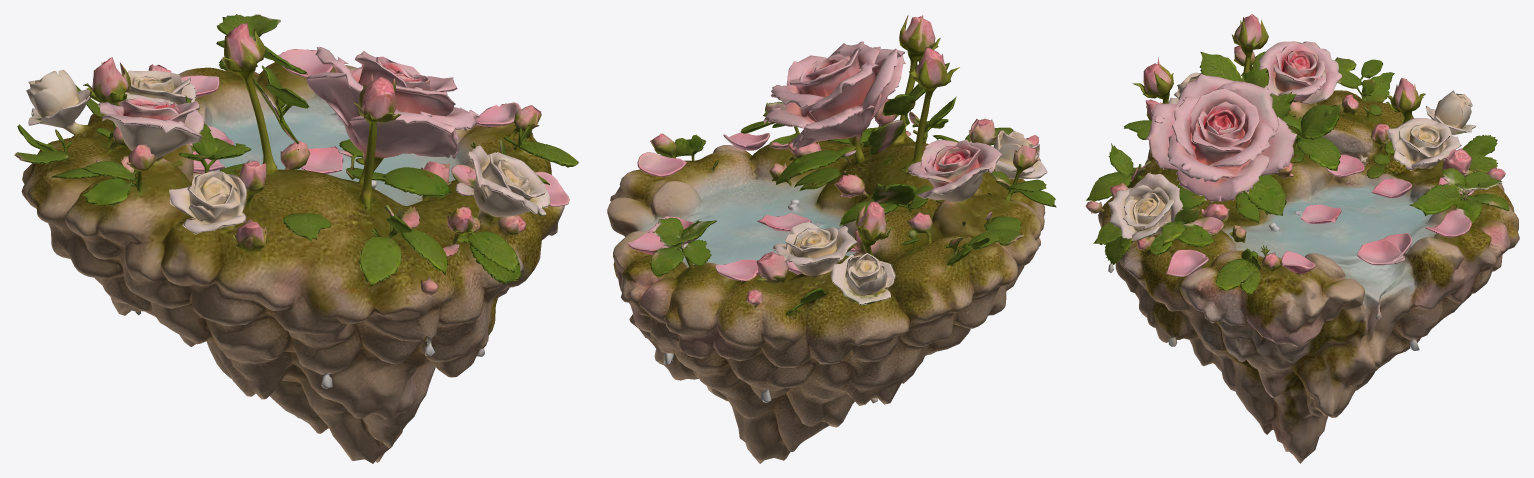
Rendered from isl-rosewater.glb.
The picture shows the model from 3 angles, left to right: view 1: azimuth 30°, elevation 25°; view 2: azimuth 150°, elevation 25°; view 3: azimuth 270°, elevation 25°; orthographic projection. The views are drawn at different scales.
Visible parts, largest first — view 1: tripo_node_b818aa1f-4a2b-4f30-8ef3-3dc51e084faa; view 2: tripo_node_b818aa1f-4a2b-4f30-8ef3-3dc51e084faa; view 3: tripo_node_b818aa1f-4a2b-4f30-8ef3-3dc51e084faa.
Boxes of the visible parts, box(x1,y1,x2,y2) form: tripo_node_b818aa1f-4a2b-4f30-8ef3-3dc51e084faa: box(14, 14, 578, 463); tripo_node_b818aa1f-4a2b-4f30-8ef3-3dc51e084faa: box(607, 15, 1056, 463); tripo_node_b818aa1f-4a2b-4f30-8ef3-3dc51e084faa: box(1085, 14, 1519, 463).
Bounding box in the file's own units: 0.98 × 0.9433 × 0.9592.
1 material, 1 textured.
